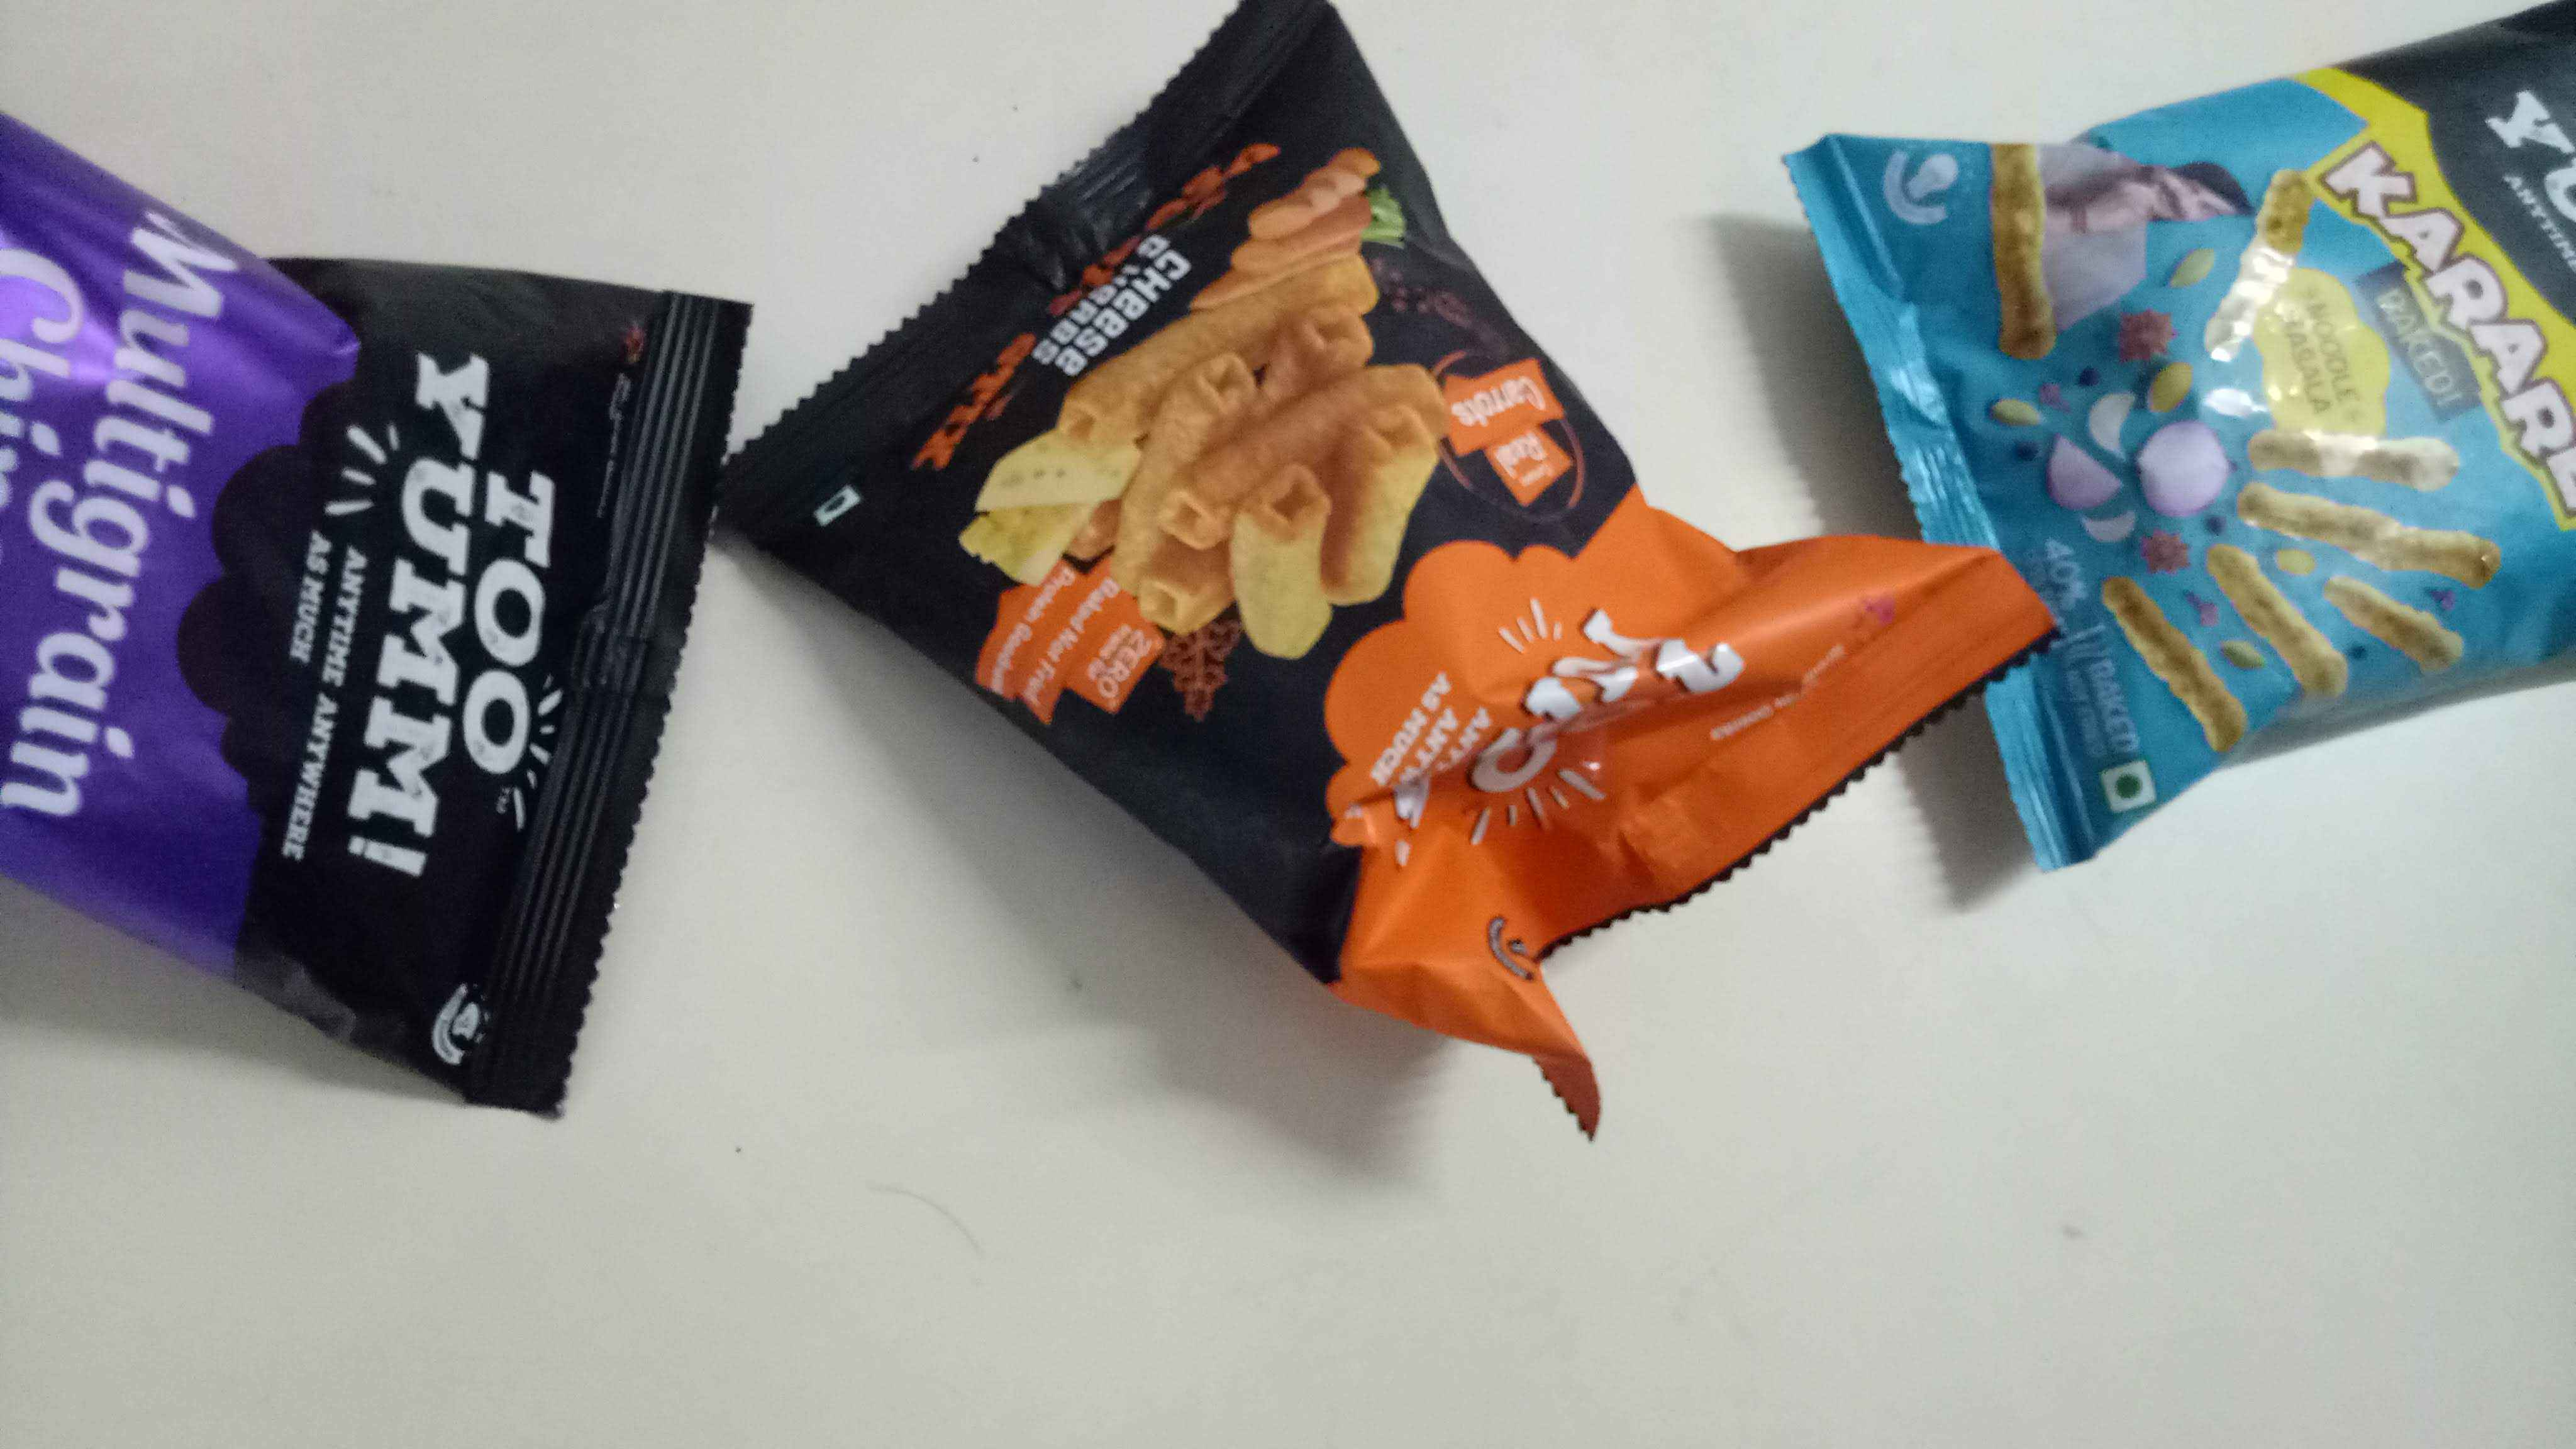tooyumm: (389, 340, 541, 899), (1453, 603, 1732, 867), (2477, 60, 2576, 248)
